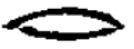Mouth: (2, 5, 128, 42)
